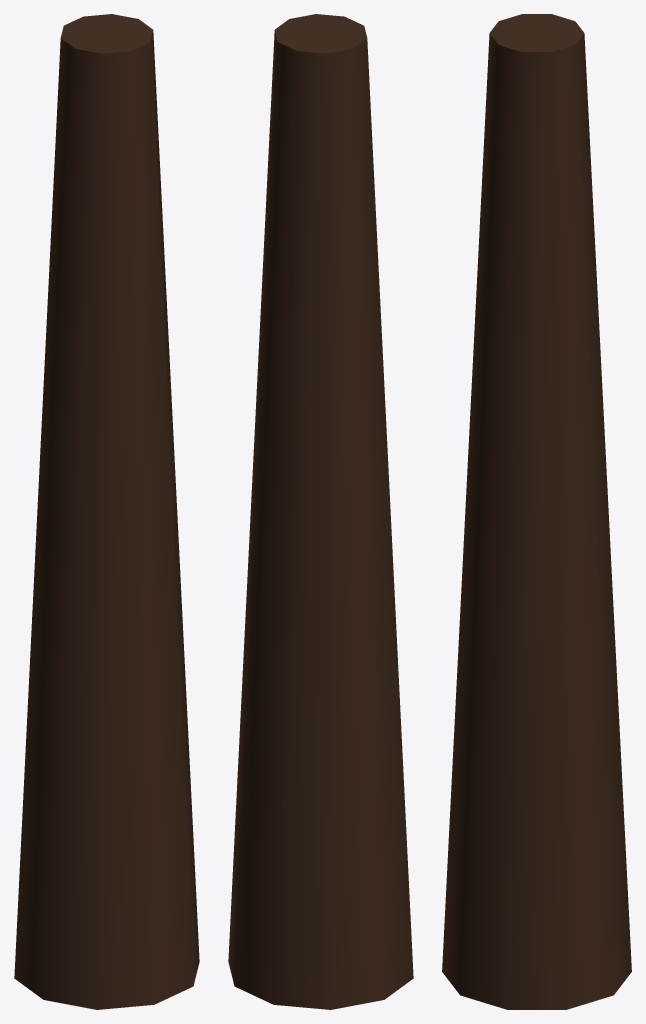
Rendered from tunnel-root-2.glb.
The picture shows the model from 3 angles, left to right: view 1: azimuth 30°, elevation 25°; view 2: azimuth 150°, elevation 25°; view 3: azimuth 270°, elevation 25°; orthographic projection.
Visible parts, largest first — view 1: Tunnel Root 2; view 2: Tunnel Root 2; view 3: Tunnel Root 2.
Part boxes in pixels (box(x1,y1,x2,y2)): Tunnel Root 2: box(14, 14, 199, 1009); Tunnel Root 2: box(228, 14, 413, 1009); Tunnel Root 2: box(442, 14, 631, 1009).
Size of the model in its own units: 5.76 by 33.05 by 6.06.
